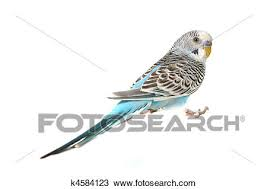budgie: (58, 28, 217, 153)
